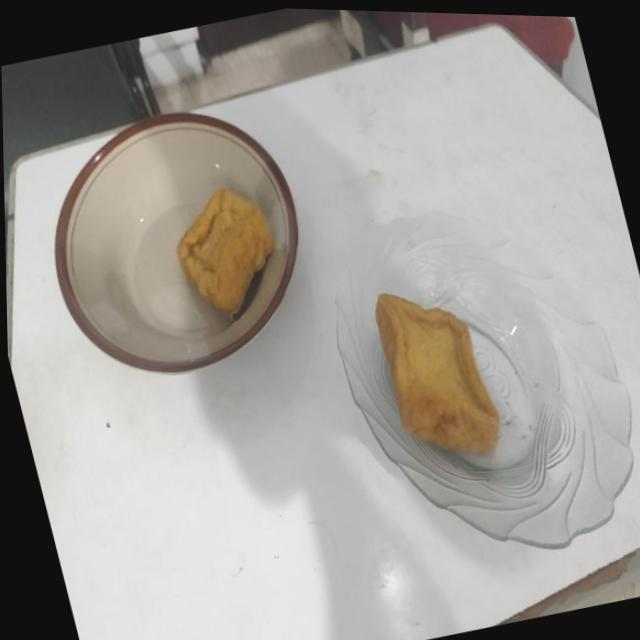tahu_goreng: (375, 293, 499, 452), (176, 188, 274, 320)
